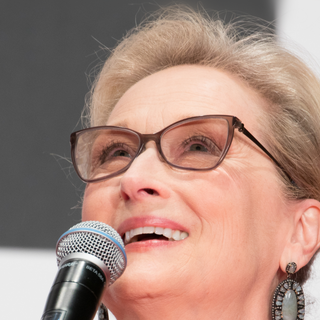eye: (176, 134, 220, 158), (98, 142, 141, 165)
